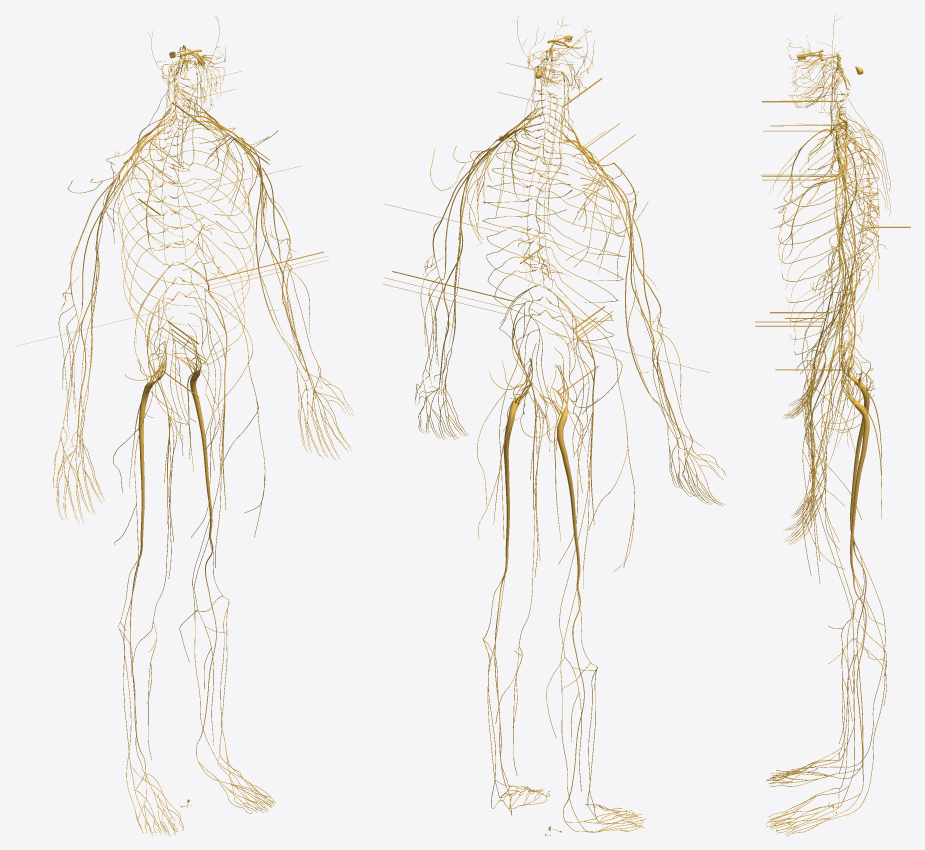
The model's file is zanatomy_peripheral_nerves.glb.
3 views of the same model, side by side, from view 1: azimuth 30°, elevation 25°; view 2: azimuth 150°, elevation 25°; view 3: azimuth 270°, elevation 25° (orthographic). The views are drawn at different scales.
Parts seen in each view (by area): view 1: Intercostal nerves.r, Intercostal nerves.l, Sciatic nerve.r, Sciatic nerve.l; view 2: Intercostal nerves.l, Intercostal nerves.r, Sciatic nerve.r, Sciatic nerve.l; view 3: Intercostal nerves.l, Intercostal nerves.r, Sciatic nerve.l, Sciatic nerve.r, Saphenous nerve.l, Lateral femoral cutaneous nerve.l, Median nerve.l, Saphenous nerve.r, Vagus nerve (X).r, Ulnar nerve.l, Femoral nerve.l, Lateral femoral cutaneous nerve.r (+4 smaller).
Boxes of the visible parts, box(x1,y1,x2,y2) form: Intercostal nerves.r: box(118, 126, 204, 358); Intercostal nerves.l: box(174, 121, 256, 355); Sciatic nerve.r: box(138, 342, 165, 551); Sciatic nerve.l: box(179, 335, 212, 534); Intercostal nerves.l: box(482, 133, 572, 336); Intercostal nerves.r: box(541, 141, 625, 341); Sciatic nerve.r: box(544, 365, 580, 585); Sciatic nerve.l: box(503, 358, 531, 567); Intercostal nerves.l: box(778, 140, 879, 355); Intercostal nerves.r: box(778, 128, 879, 344); Sciatic nerve.l: box(841, 359, 869, 571); Sciatic nerve.r: box(841, 345, 869, 538); Saphenous nerve.l: box(808, 423, 886, 773); Lateral femoral cutaneous nerve.l: box(802, 315, 861, 575); Median nerve.l: box(815, 182, 846, 473); Saphenous nerve.r: box(808, 395, 886, 743); Vagus nerve (X).r: box(810, 67, 856, 296); Ulnar nerve.l: box(823, 175, 855, 445); Femoral nerve.l: box(810, 300, 845, 527); Lateral femoral cutaneous nerve.r: box(802, 291, 861, 517).
Size of the model in its own units: 0.635 by 1.51 by 0.2733.
